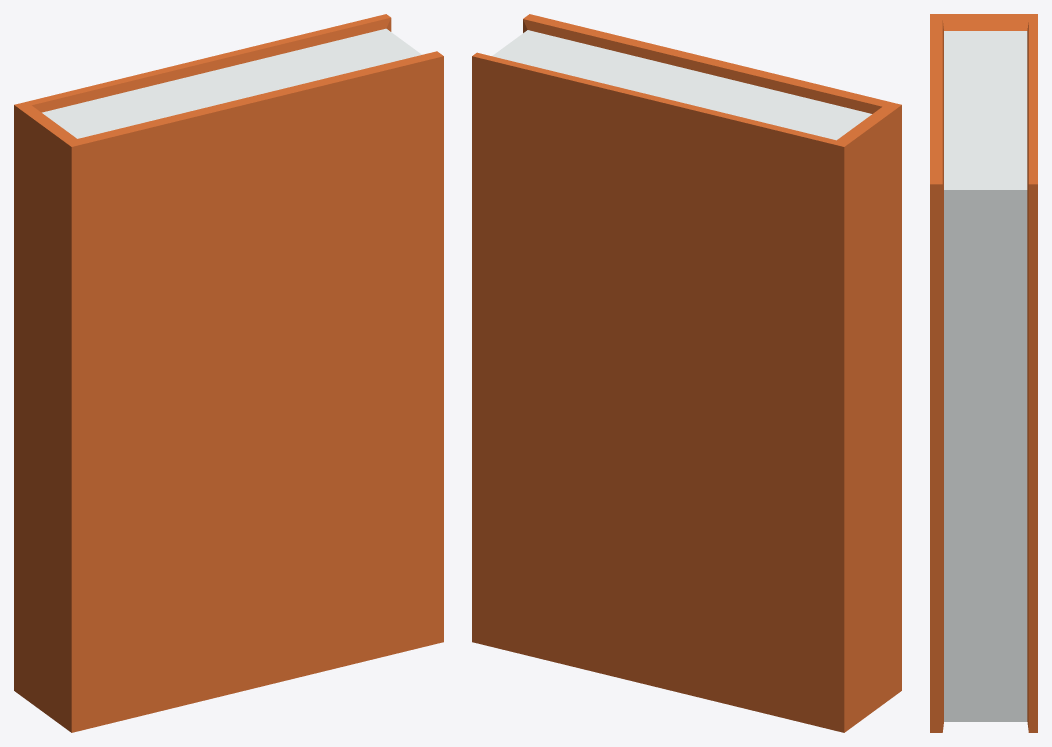
File: livro1.fbx
The picture shows the model from 3 angles, left to right: view 1: azimuth 30°, elevation 25°; view 2: azimuth 150°, elevation 25°; view 3: azimuth 270°, elevation 25°; orthographic projection. The views are drawn at different scales.
Parts seen in each view (by area): view 1: Cube.001; view 2: Cube.001; view 3: Cube.001.
Part boxes in pixels (x1,y1,x2,y2): Cube.001: (14,14,443,732); Cube.001: (472,14,901,732); Cube.001: (930,14,1037,732).
Bounding box in the file's own units: 29.81 × 44.82 × 7.99.
